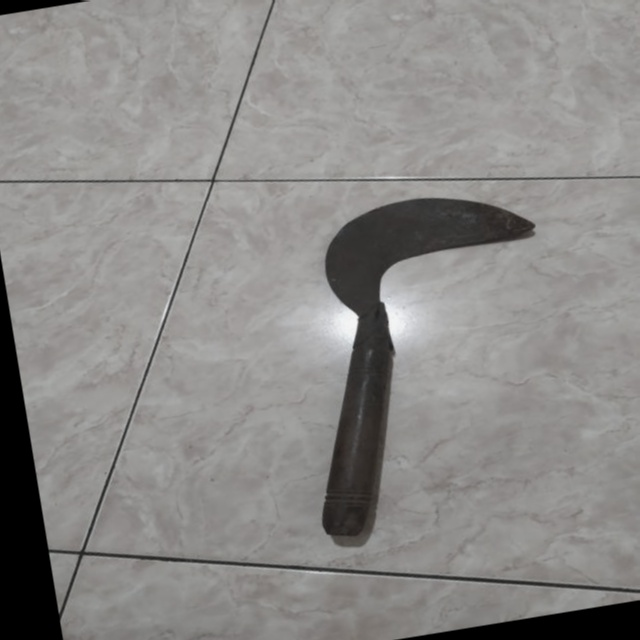Sharp-Object: (255, 171, 590, 557)
